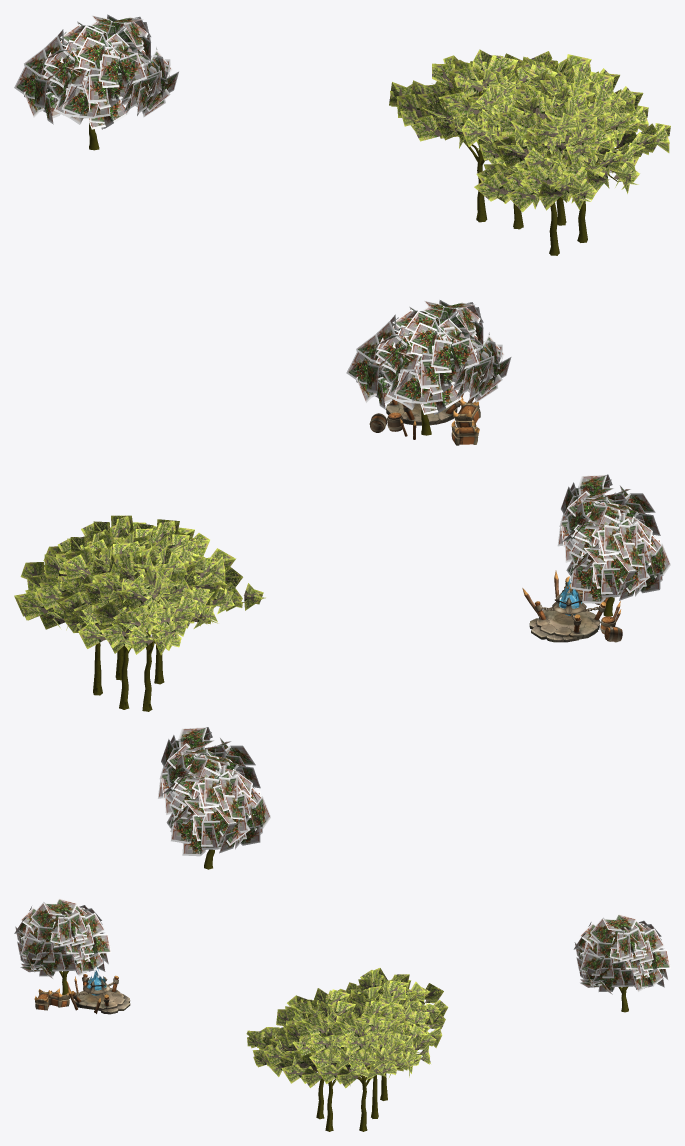
The picture shows the model from 3 angles, top to bottom: view 1: azimuth 30°, elevation 25°; view 2: azimuth 150°, elevation 25°; view 3: azimuth 270°, elevation 25°; orthographic projection. The views are drawn at different scales.
Visible parts, largest first — view 1: meshonly_tree, meshonly_magnolia_004.002, meshonly_magnolia_004.001, meshonly_sands location; view 2: meshonly_tree, meshonly_magnolia_004.001, meshonly_magnolia_004.002, meshonly_sands location; view 3: meshonly_tree, meshonly_magnolia_004.001, meshonly_magnolia_004.002, meshonly_sands location.
Part boxes in pixels (x1,y1,x2,y2): meshonly_tree: (389, 49, 670, 255); meshonly_magnolia_004.002: (346, 300, 511, 435); meshonly_magnolia_004.001: (14, 14, 178, 150); meshonly_sands location: (369, 393, 480, 445); meshonly_tree: (14, 515, 265, 711); meshonly_magnolia_004.001: (158, 727, 270, 869); meshonly_magnolia_004.002: (557, 474, 670, 616); meshonly_sands location: (522, 570, 622, 642); meshonly_tree: (246, 968, 448, 1131); meshonly_magnolia_004.001: (573, 914, 670, 1012); meshonly_magnolia_004.002: (14, 898, 111, 994); meshonly_sands location: (34, 966, 130, 1014).
Size of the model in its own units: 252 by 87.85 by 405.
Materials: 6 (6 with a texture image).
